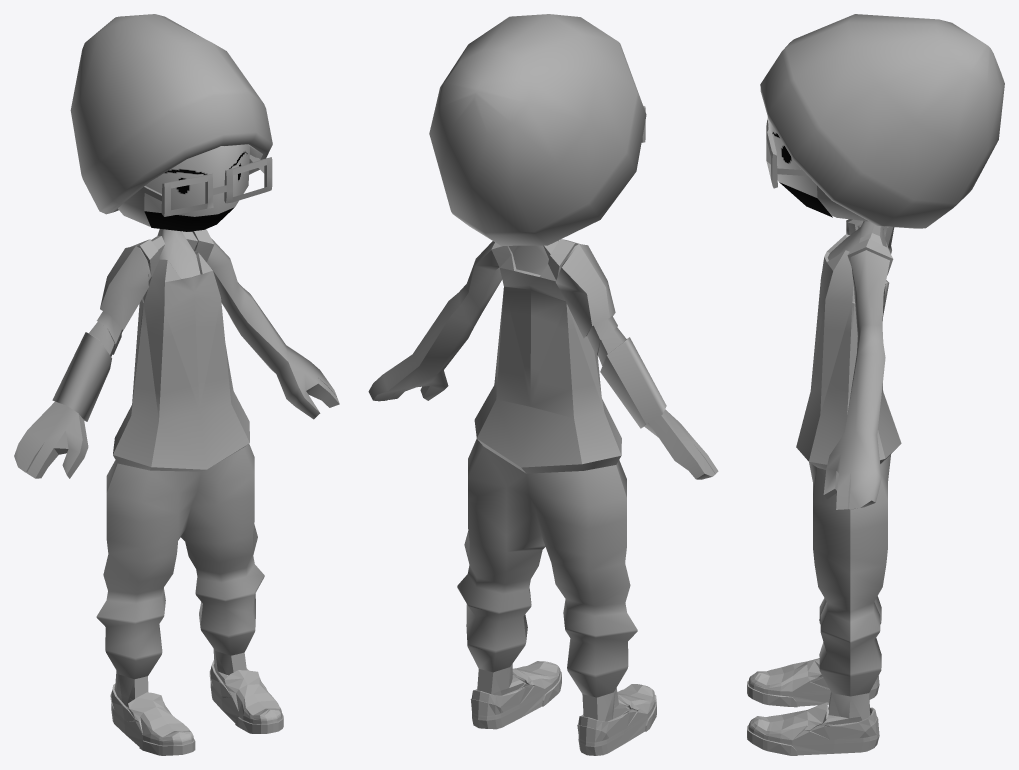
3 renders of one model, left to right at view 1: azimuth 30°, elevation 25°; view 2: azimuth 150°, elevation 25°; view 3: azimuth 270°, elevation 25°, orthographic. The views are drawn at different scales.
Parts seen in each view (by area): view 1: Box006, Reye, Leye, mouth; view 2: Box006; view 3: Box006, Leye, mouth.
Boxes of the visible parts, bbox=[...] form: Box006: bbox=[14, 14, 339, 755]; Reye: bbox=[144, 146, 220, 216]; Leye: bbox=[218, 144, 249, 213]; mouth: bbox=[144, 207, 234, 231]; Box006: bbox=[368, 14, 718, 755]; Box006: bbox=[747, 14, 1004, 755]; Leye: bbox=[767, 117, 817, 198]; mouth: bbox=[779, 182, 832, 217].
Bounding box in the file's own units: 573 × 1159 × 388.
Materials: 3 (2 with a texture image).
